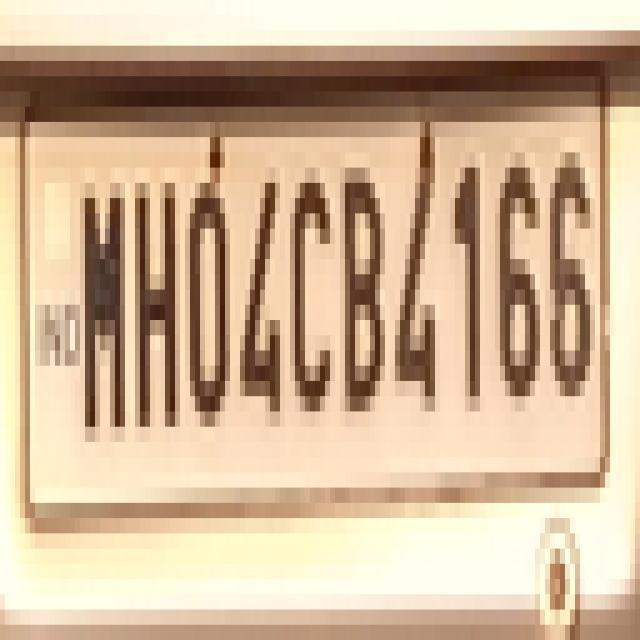0: (185, 180, 236, 442)
4: (396, 141, 452, 424), (240, 182, 290, 442), (456, 149, 492, 413)
6: (550, 158, 600, 424), (498, 148, 546, 392)
B: (342, 164, 392, 424)
C: (294, 172, 338, 427)
H: (136, 174, 180, 447)
M: (74, 162, 133, 454)
